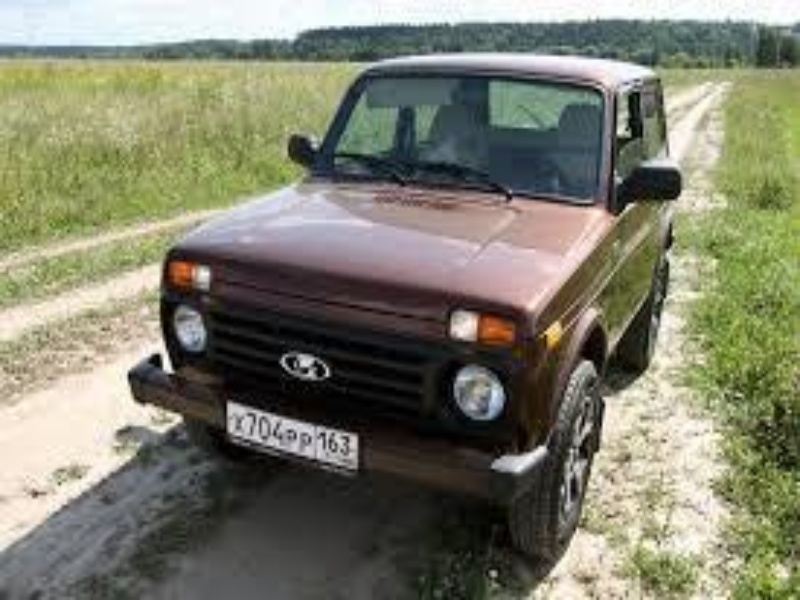car: (129, 52, 683, 558)
plate: (226, 399, 357, 473)
